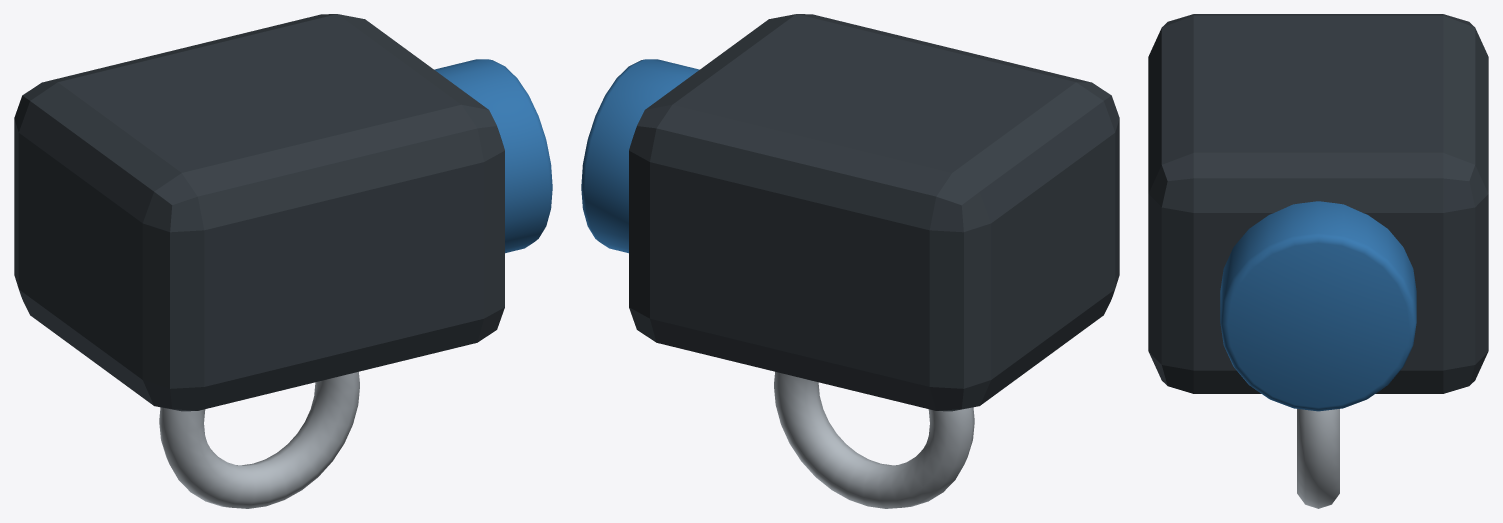
The model's file is Pendulum_String_Anchor.fbx.
The picture shows the model from 3 angles, left to right: view 1: azimuth 30°, elevation 25°; view 2: azimuth 150°, elevation 25°; view 3: azimuth 270°, elevation 25°; orthographic projection.
Parts seen in each view (by area): view 1: AnchorBody, StringEye, AnchorKnob; view 2: AnchorBody, StringEye, AnchorKnob; view 3: AnchorBody, AnchorKnob, StringEye.
Part boxes in pixels (box(x1,y1,x2,y2)): AnchorBody: box(14, 14, 504, 411); StringEye: box(159, 371, 359, 508); AnchorKnob: box(434, 59, 552, 253); AnchorBody: box(629, 14, 1119, 411); StringEye: box(774, 371, 974, 508); AnchorKnob: box(581, 59, 699, 253); AnchorBody: box(1148, 14, 1488, 393); AnchorKnob: box(1220, 201, 1416, 411); StringEye: box(1297, 409, 1339, 508).
Size of the model in its own units: 0.0655 by 0.0605 by 0.045.
